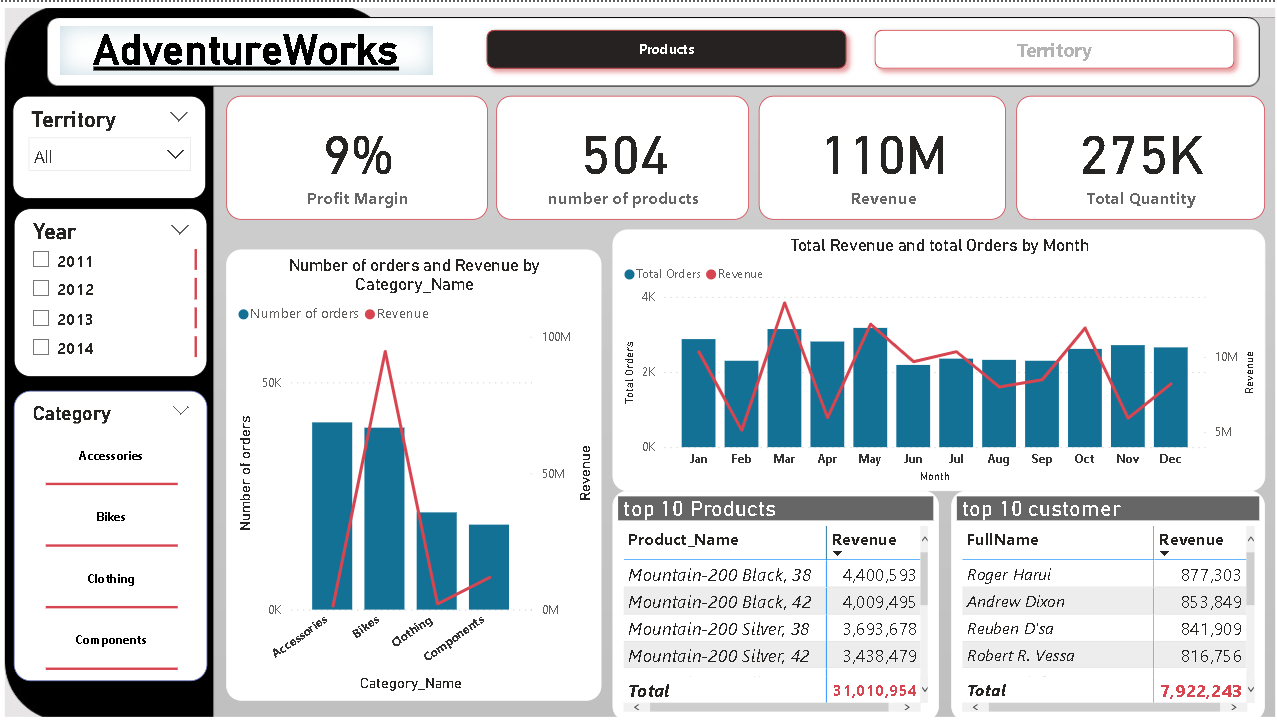

What the dashboard file says about the page in this screenshot:
{"tool":"powerbi","page":{"name":"Products","canvas":[1280,720],"ordinal":0},"visuals":[{"type":"image","box":[0,1.2,1280,718.8],"z":0},{"type":"card","fields":{"Values":["All Measures.Sum of Quantity"]},"box":[1016.2,93.8,248.8,123.8],"z":1000},{"type":"pivotTable","title":"top 10 Products","fields":{"Rows":["vw_DimProducts.Product_Name"],"Values":["All Measures.Revenue"]},"box":[612.5,488.8,326.2,230],"z":2000},{"type":"lineClusteredColumnComboChart","fields":{"Category":["vw_DimProducts.Category_Name"],"Y2":["All Measures.Revenue"],"Y":["All Measures.Number of orders"]},"box":[226.2,247.5,375,451.2],"z":3000},{"type":"card","fields":{"Values":["All Measures.number of products"]},"box":[496.2,93.8,252.5,123.8],"z":4000},{"type":"card","fields":{"Values":["All Measures.Profit Margin"]},"box":[226.2,93.8,261.2,123.8],"z":5000},{"type":"card","fields":{"Values":["All Measures.Revenue"]},"box":[758.8,93.8,247.5,123.8],"z":6000},{"type":"slicer","fields":{"Values":["vw_DimProducts.Category_Name"]},"box":[13.8,388.8,193.8,290],"z":7000},{"type":"slicer","fields":{"Values":["Calendar.Year"]},"box":[13.5,206.2,194,169],"z":8000},{"type":"slicer","fields":{"Values":["vw_DimTerritories.TerritoryName"]},"box":[12.3,93.2,194,103.5],"z":9000},{"type":"pivotTable","title":"top 10 customer","fields":{"Rows":["vm_DimCustomer.FullName"],"Values":["All Measures.Revenue"]},"box":[951.2,488.8,313.8,230],"z":10000},{"type":"lineStackedColumnComboChart","title":"Total Revenue and total Orders by Month","fields":{"Category":["Calendar.Month"],"Y":["All Measures.Distinct Num Orders"],"Y2":["All Measures.Revenue"]},"box":[612.5,227.5,652.5,261.2],"z":11000},{"type":"pageNavigator","box":[477.5,18.8,767.5,57.5],"z":13000},{"type":"textbox","title":"AdventureWorks","box":[60,23.8,372.5,48.8],"z":14000}]}

Visuals, with their boxes in screenshot pixels (x1, y1, x2, y2), scaled from the page's 1280x720 canvas onto the 1277x722 screenshot:
image: bbox=[0, 1, 1276, 721]
card - All Measures.Sum of Quantity: bbox=[1014, 94, 1262, 218]
"top 10 Products" pivotTable: bbox=[611, 490, 936, 721]
lineClusteredColumnComboChart - vw_DimProducts.Category_Name x All Measures.Revenue: bbox=[226, 248, 600, 701]
card - All Measures.number of products: bbox=[495, 94, 747, 218]
card - All Measures.Profit Margin: bbox=[226, 94, 486, 218]
card - All Measures.Revenue: bbox=[757, 94, 1004, 218]
slicer - vw_DimProducts.Category_Name: bbox=[14, 390, 207, 681]
slicer - Calendar.Year: bbox=[13, 207, 207, 376]
slicer - vw_DimTerritories.TerritoryName: bbox=[12, 93, 206, 197]
"top 10 customer" pivotTable: bbox=[949, 490, 1262, 721]
"Total Revenue and total Orders by Month" lineStackedColumnComboChart: bbox=[611, 228, 1262, 490]
pageNavigator: bbox=[476, 19, 1242, 77]
"AdventureWorks" textbox: bbox=[60, 24, 431, 73]
